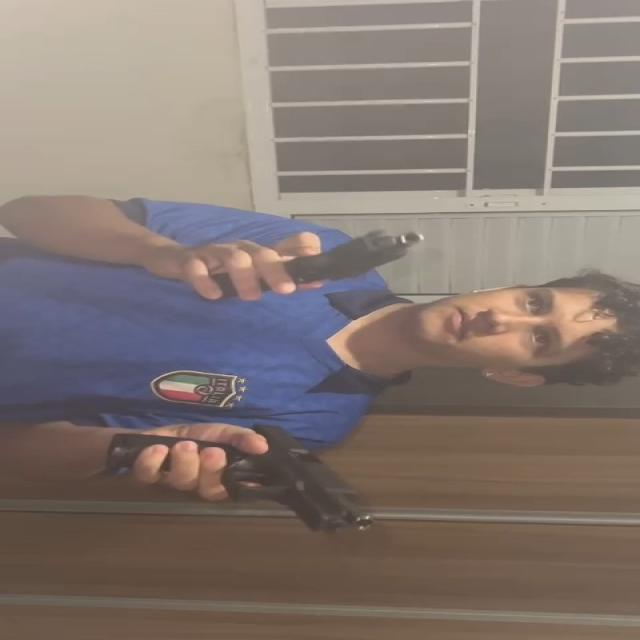gun: (115, 419, 377, 536), (288, 231, 427, 289)
